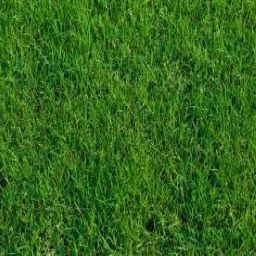grass: (2, 3, 252, 247)
